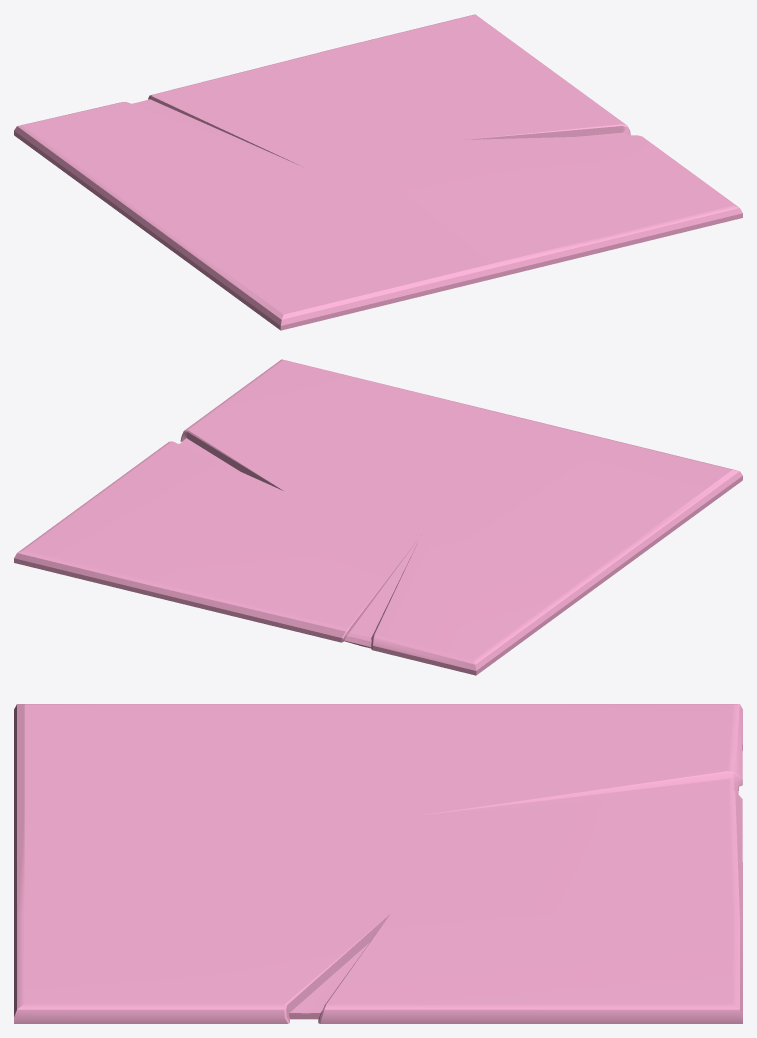
Rendered from FloorTileCracked_Model_v03.fbx.
3 renders of one model, top to bottom at view 1: azimuth 30°, elevation 25°; view 2: azimuth 150°, elevation 25°; view 3: azimuth 270°, elevation 25°, orthographic. The views are drawn at different scales.
Parts seen in each view (by area): view 1: pPlane1; view 2: pPlane1; view 3: pPlane1.
Part boxes in pixels (x1,y1,x2,y2): pPlane1: [14, 14, 742, 330]; pPlane1: [14, 359, 742, 675]; pPlane1: [14, 704, 742, 1023].
Size of the model in its own units: 400 by 9.62 by 400.
Materials: 1 (1 with a texture image).
